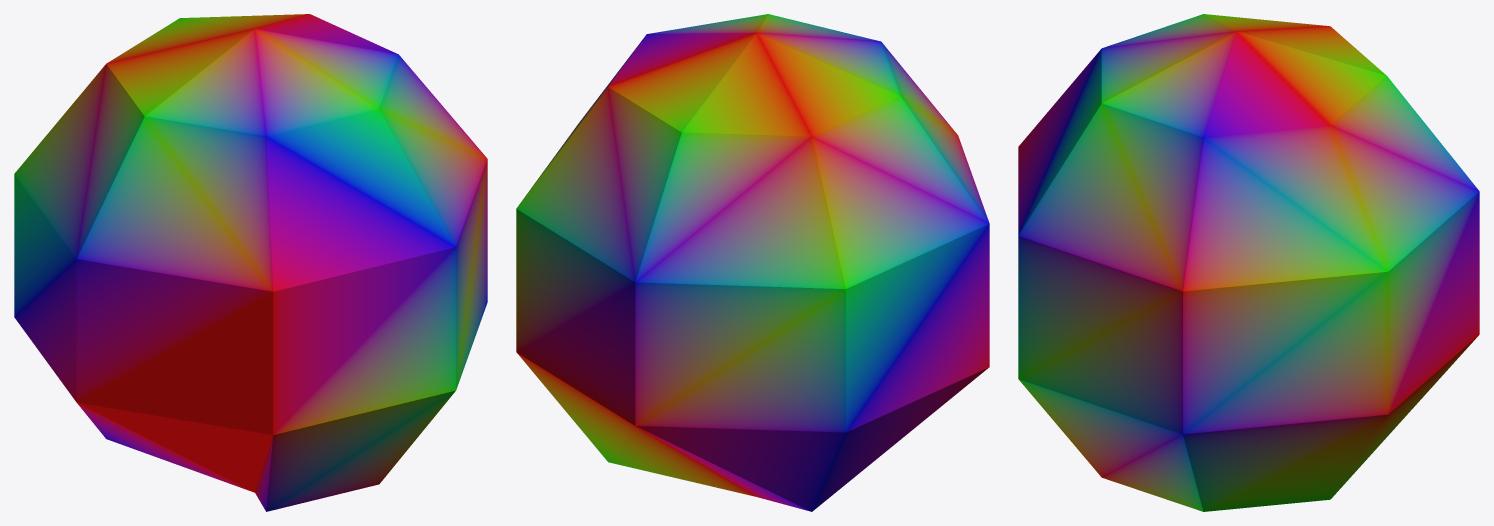
The model's file is all_18.obj.
3 views of the same model, side by side, from view 1: azimuth 30°, elevation 25°; view 2: azimuth 150°, elevation 25°; view 3: azimuth 270°, elevation 25° (orthographic).
Size of the model in its own units: 1.85 by 2 by 1.81.
